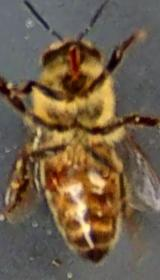varroa_mite: (31, 160, 68, 192)
